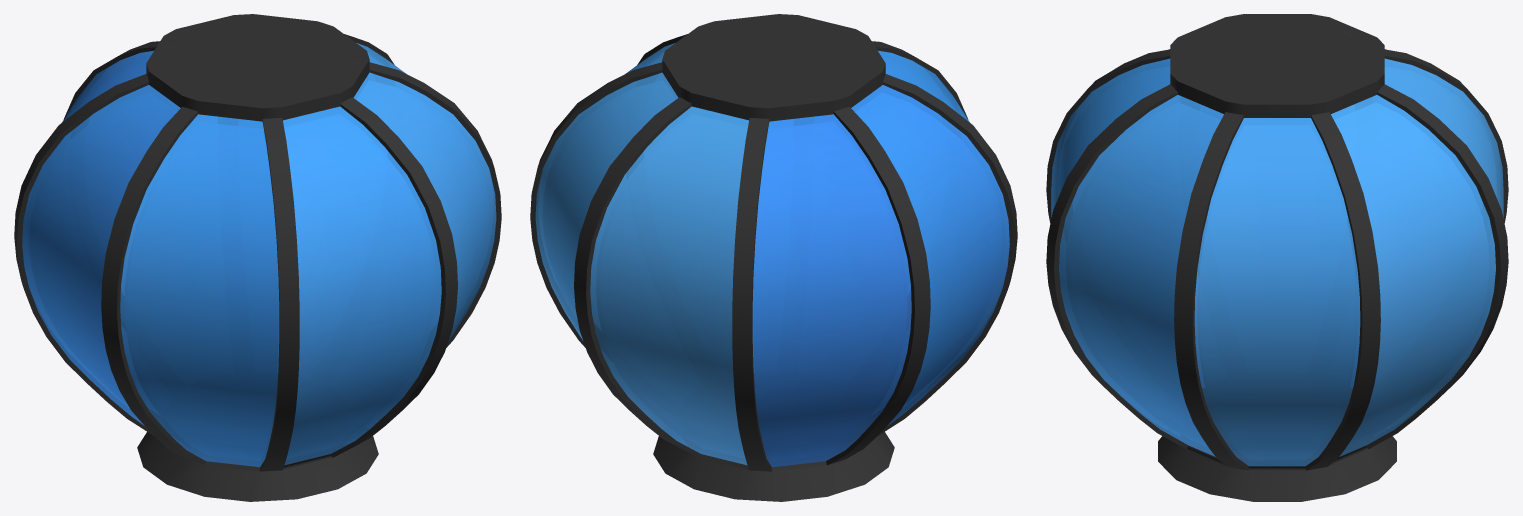
The model's file is soumatou_3_blue.fbx.
The picture shows the model from 3 angles, left to right: view 1: azimuth 30°, elevation 25°; view 2: azimuth 150°, elevation 25°; view 3: azimuth 270°, elevation 25°; orthographic projection.
Parts seen in each view (by area): view 1: soumatou3; view 2: soumatou3; view 3: soumatou3.
Boxes of the visible parts, bbox=[...] form: soumatou3: bbox=[14, 14, 501, 501]; soumatou3: bbox=[530, 14, 1017, 501]; soumatou3: bbox=[1046, 14, 1508, 501].
Size of the model in its own units: 0.3659 by 0.3425 by 0.3659.
2 materials, 2 textured.
